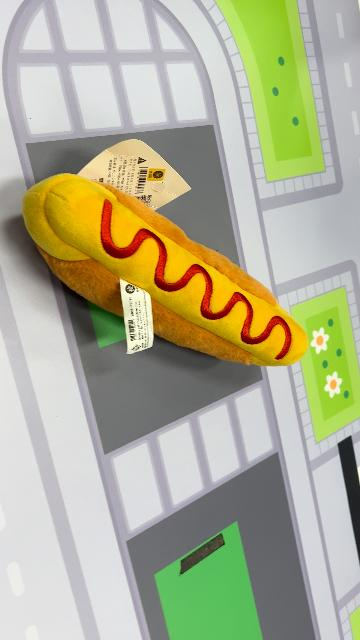hotdog: (22, 171, 310, 369)
